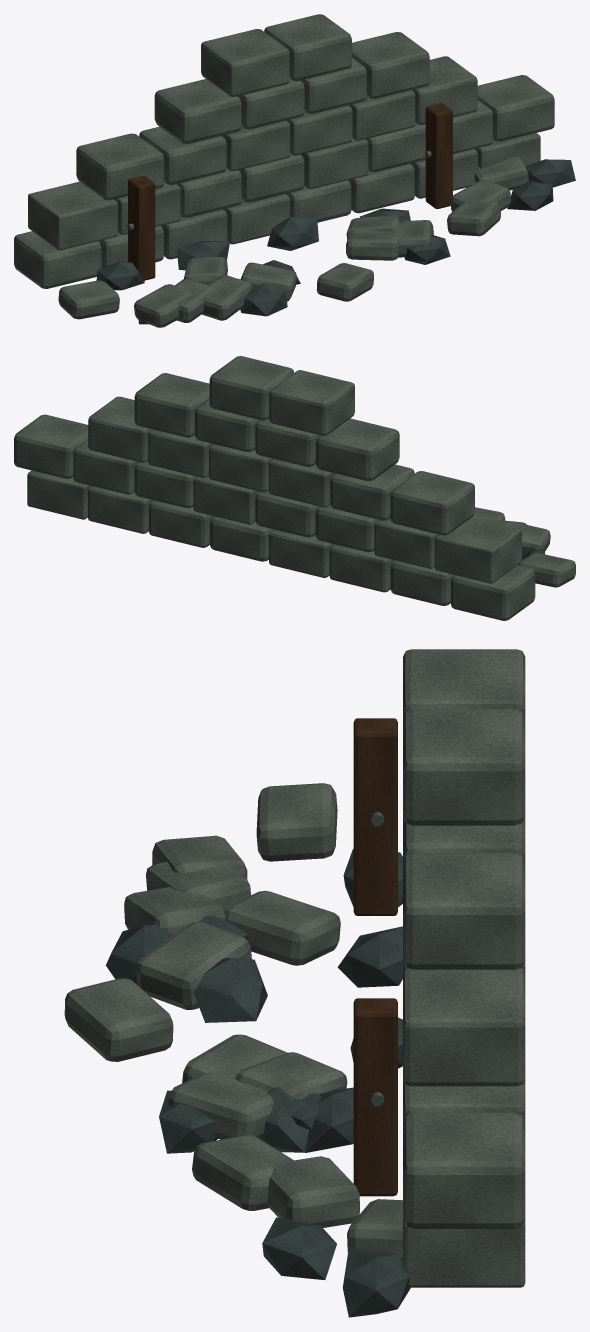
Rendered from retaining_remnant.glb.
The picture shows the model from 3 angles, top to bottom: view 1: azimuth 30°, elevation 25°; view 2: azimuth 150°, elevation 25°; view 3: azimuth 270°, elevation 25°; orthographic projection. The views are drawn at different scales.
Visible parts, largest first — view 1: Retaining course, Unsorted ore.041, Buried brace; view 2: Retaining course; view 3: Retaining course, Unsorted ore.041, Buried brace.
Boxes of the visible parts, <box> form: Retaining course: <box>14,14,554,327</box>; Unsorted ore.041: <box>96,159,575,324</box>; Buried brace: <box>128,103,452,280</box>; Retaining course: <box>14,356,575,620</box>; Retaining course: <box>64,649,525,1287</box>; Unsorted ore.041: <box>106,849,410,1317</box>; Buried brace: <box>353,718,397,1196</box>.
Bounding box in the file's own units: 6.89 × 2.46 × 2.71.
4 materials, 4 textured.
